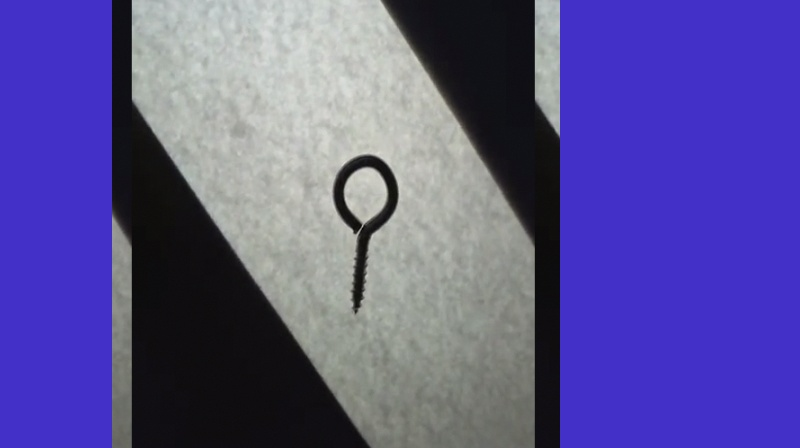O001: (329, 152, 400, 319)
